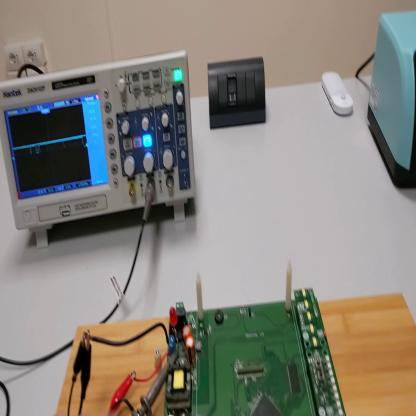low voltage board: (90, 262, 345, 413)
oscilloscope: (3, 52, 196, 251)
oscilloscope probe tip: (130, 346, 179, 416)
welder station: (367, 10, 414, 189)
working area: (58, 293, 415, 416)
